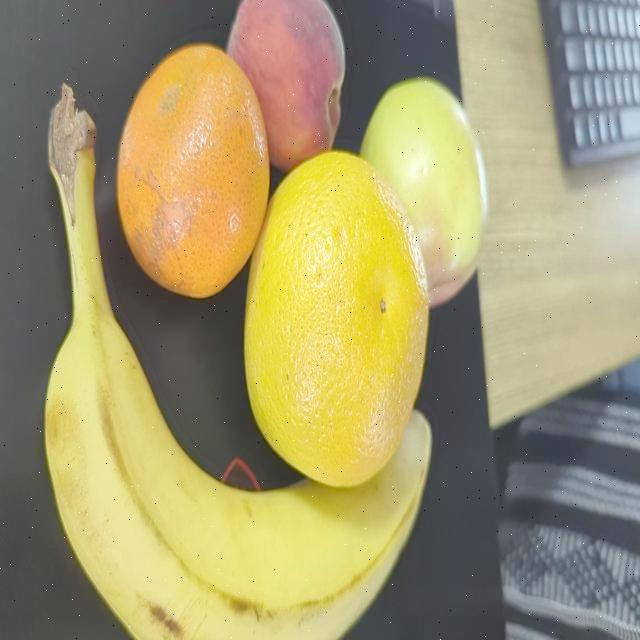Apel Gala: (364, 83, 504, 324)
Jeruk: (19, 99, 430, 640), (260, 161, 418, 485)
Jeruk Mandarin: (116, 43, 262, 290)
Persik: (225, 0, 343, 166)
